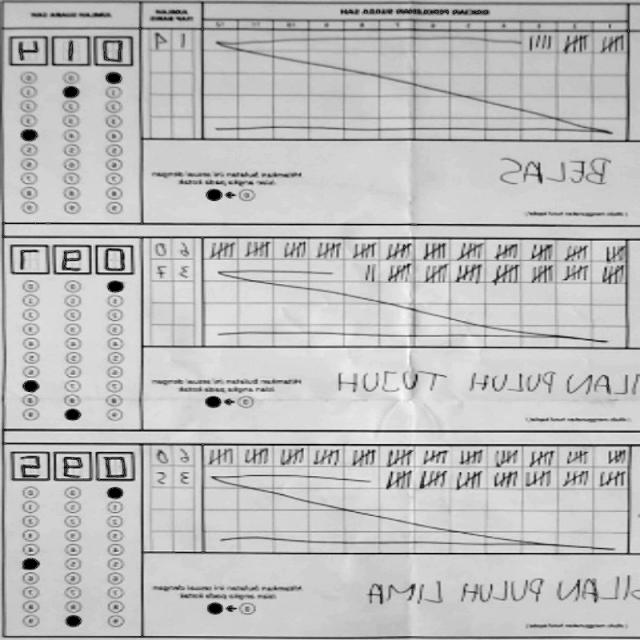Suara: (4, 235, 144, 278), (12, 24, 142, 67), (14, 447, 140, 482)
